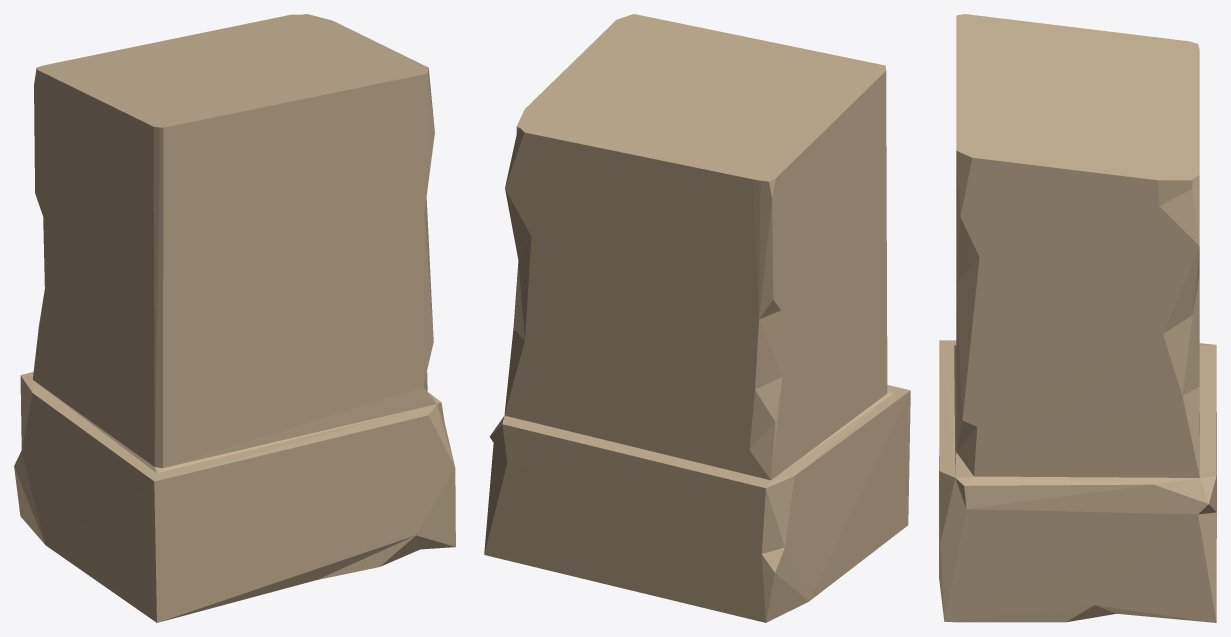
The model's file is SM_stone_debris_07.fbx.
3 views of the same model, side by side, from view 1: azimuth 30°, elevation 25°; view 2: azimuth 150°, elevation 25°; view 3: azimuth 270°, elevation 25° (orthographic). The views are drawn at different scales.
Visible parts, largest first — view 1: stone_debris_07; view 2: stone_debris_07; view 3: stone_debris_07.
Boxes of the visible parts, x1,y1,x2,y2 form: stone_debris_07: [14, 14, 455, 622]; stone_debris_07: [484, 14, 910, 622]; stone_debris_07: [939, 14, 1216, 622].
Bounding box in the file's own units: 194 × 294 × 157.
